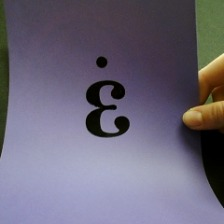violet3: (77, 52, 137, 151)
